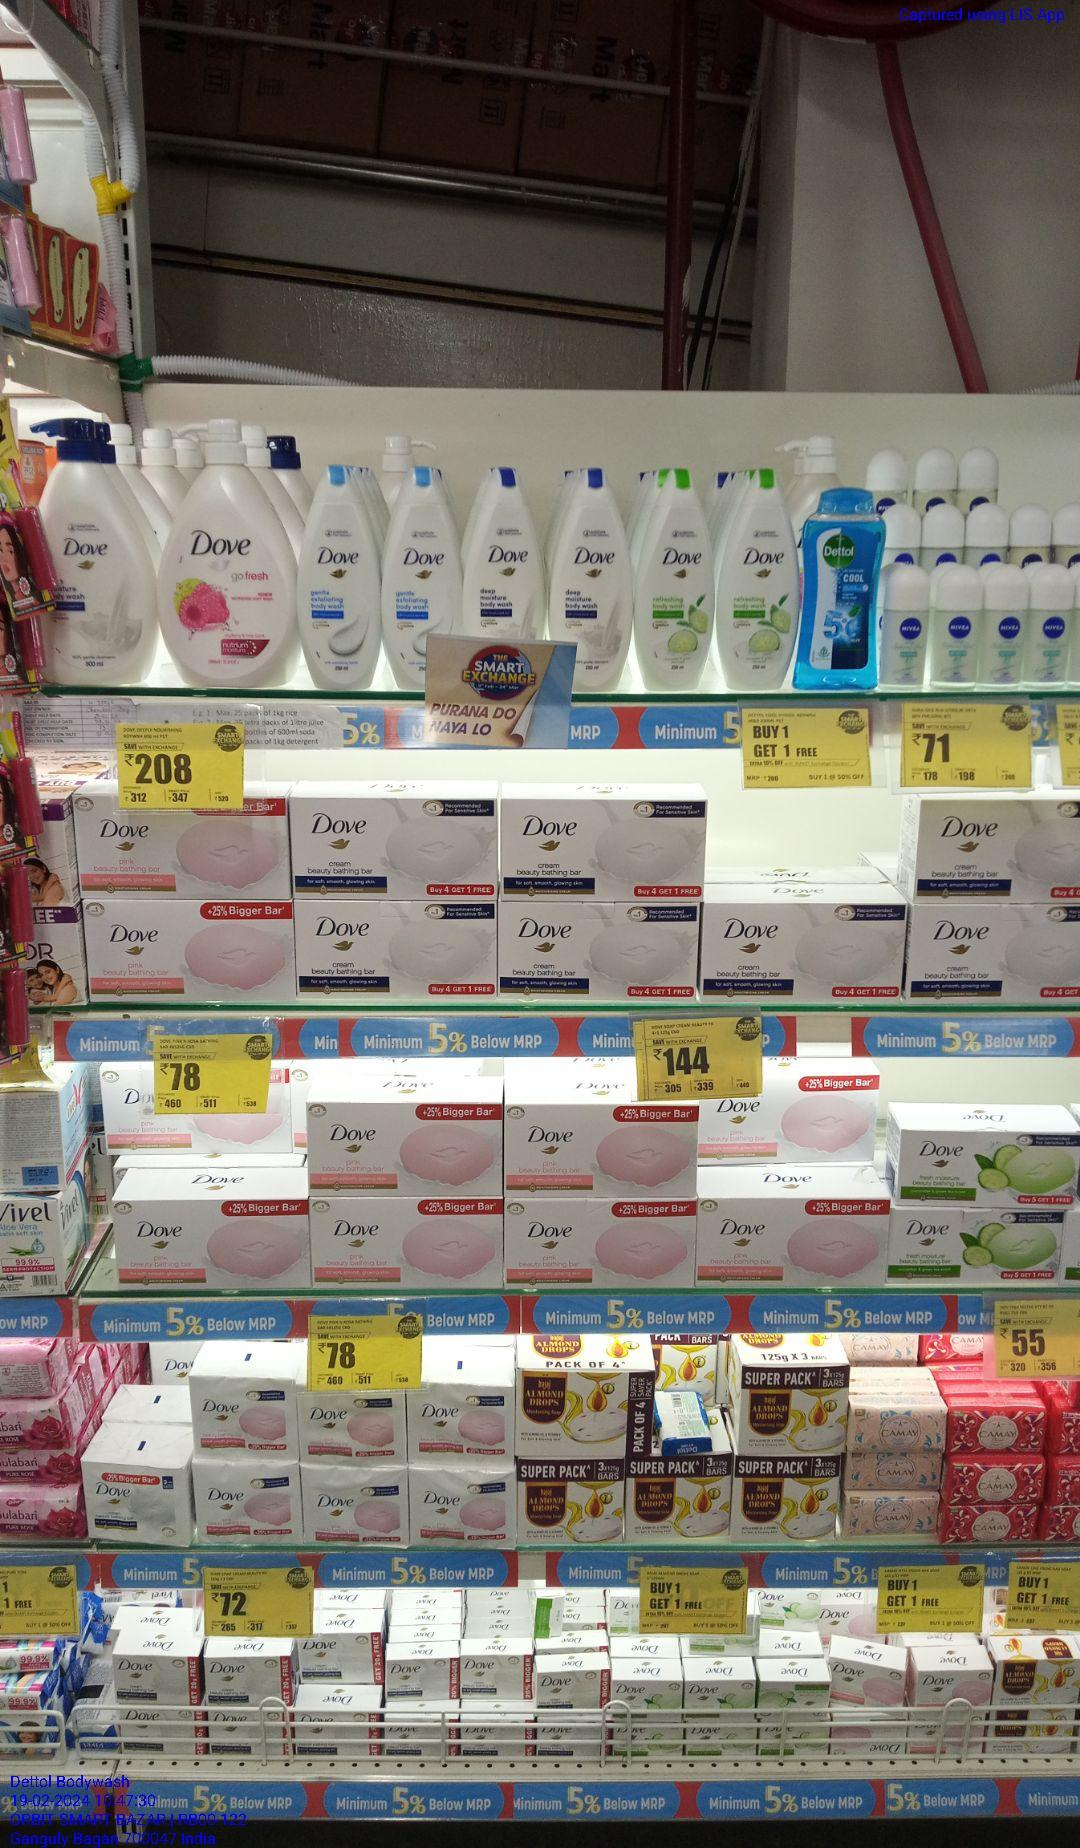Dettol_Bodywash_Cool: (796, 487, 878, 690)
Dove_Deep_Moisture_Body_Wash_250ML: (462, 464, 549, 643), (552, 465, 635, 640)
Dove_Gentle_Exfoliating_Body_Wash_250ML: (294, 461, 377, 688), (382, 463, 458, 693)
Dove_Refreshing_Body_Wash_250ML: (716, 466, 793, 693), (638, 466, 712, 691)
